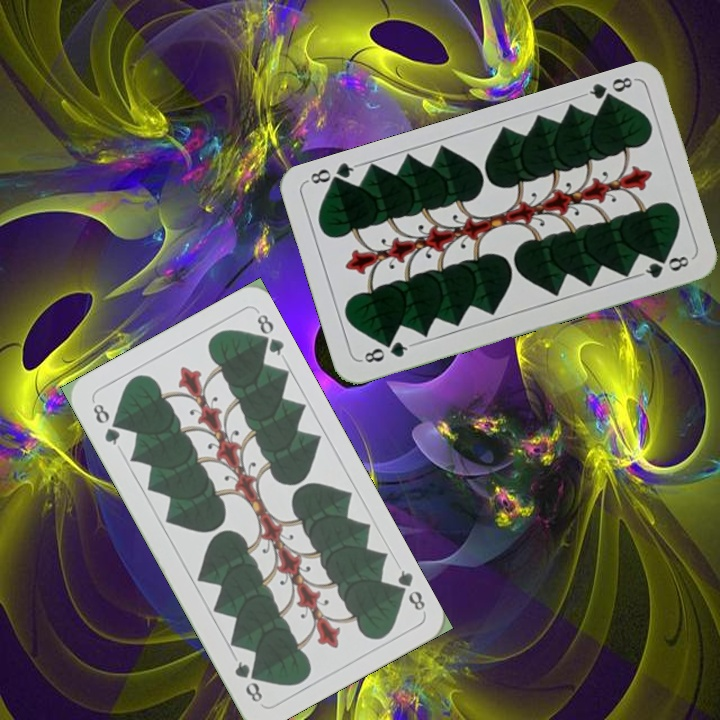G8: (579, 72, 638, 108), (389, 566, 428, 614), (88, 397, 123, 448), (357, 337, 415, 366)
